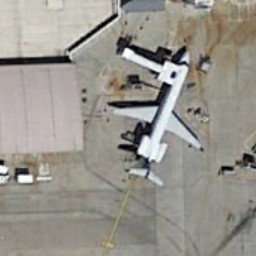Airplane: (101, 38, 210, 195)
